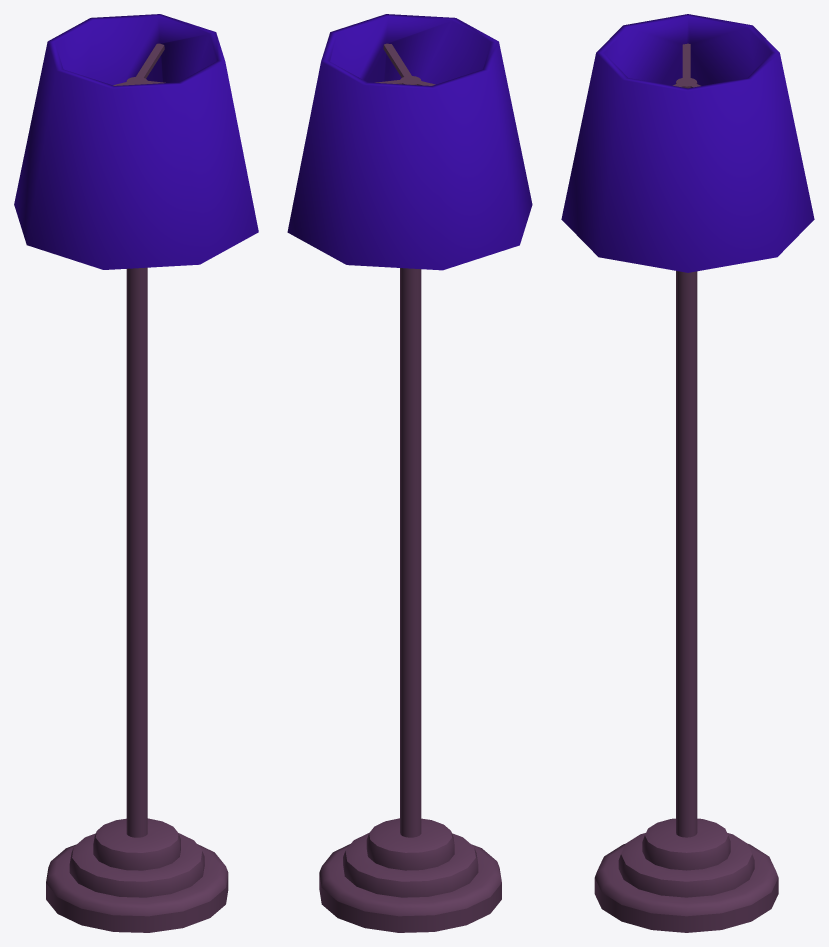
File: Lampara.fbx
3 renders of one model, left to right at view 1: azimuth 30°, elevation 25°; view 2: azimuth 150°, elevation 25°; view 3: azimuth 270°, elevation 25°, orthographic.
Parts seen in each view (by area): view 1: Cylinder002; view 2: Cylinder002; view 3: Cylinder002.
Boxes of the visible parts, <box> form: Cylinder002: <box>14,14,258,932</box>; Cylinder002: <box>287,14,532,932</box>; Cylinder002: <box>561,14,814,932</box>.
Bounding box in the file's own units: 16.27 × 59.65 × 16.27.
